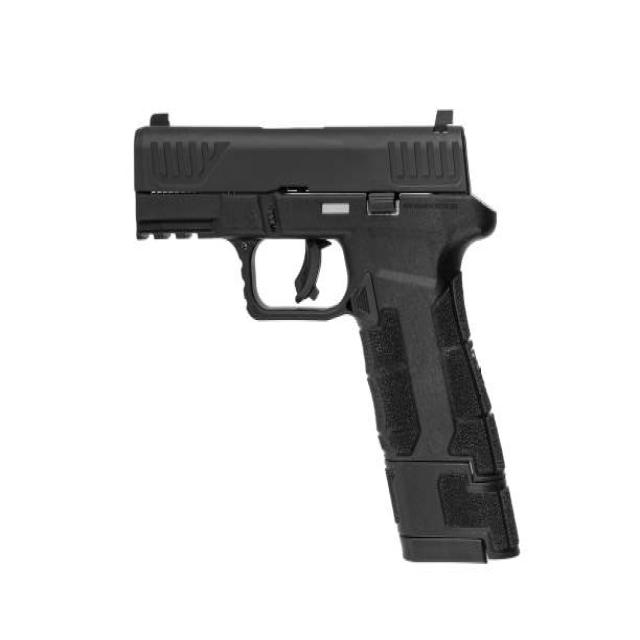pistol: (128, 106, 525, 576)
